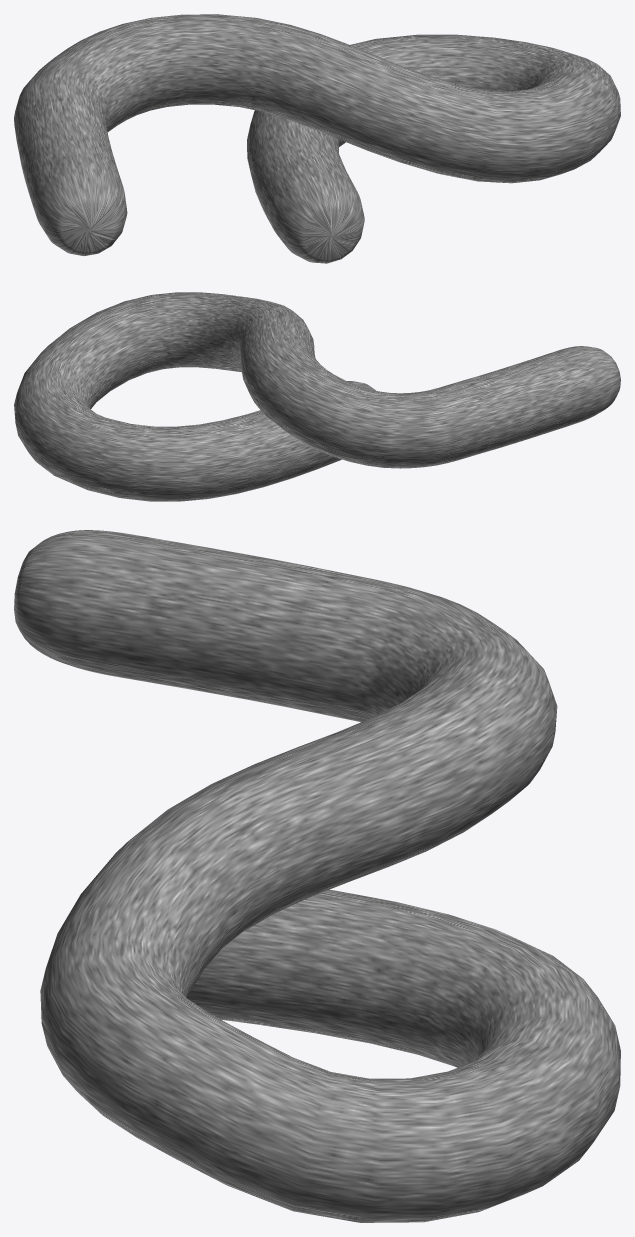
File: ViralEnvelopeClosed.fbx
The picture shows the model from 3 angles, top to bottom: view 1: azimuth 30°, elevation 25°; view 2: azimuth 150°, elevation 25°; view 3: azimuth 270°, elevation 25°; orthographic projection. The views are drawn at different scales.
Visible parts, largest first — view 1: ViralEnvelopeClosed; view 2: ViralEnvelopeClosed; view 3: ViralEnvelopeClosed.
Boxes of the visible parts, <box> form: ViralEnvelopeClosed: <box>14,14,620,263</box>; ViralEnvelopeClosed: <box>14,292,620,501</box>; ViralEnvelopeClosed: <box>14,530,620,1222</box>.
Bounding box in the file's own units: 953 × 265 × 504.
